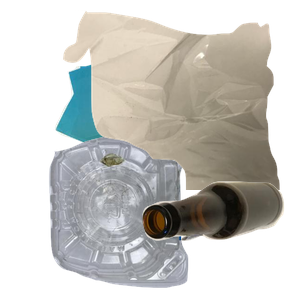glass: (140, 179, 300, 300)
paper: (52, 49, 209, 198)
plastic: (46, 130, 227, 300)
trash: (61, 10, 300, 190)
